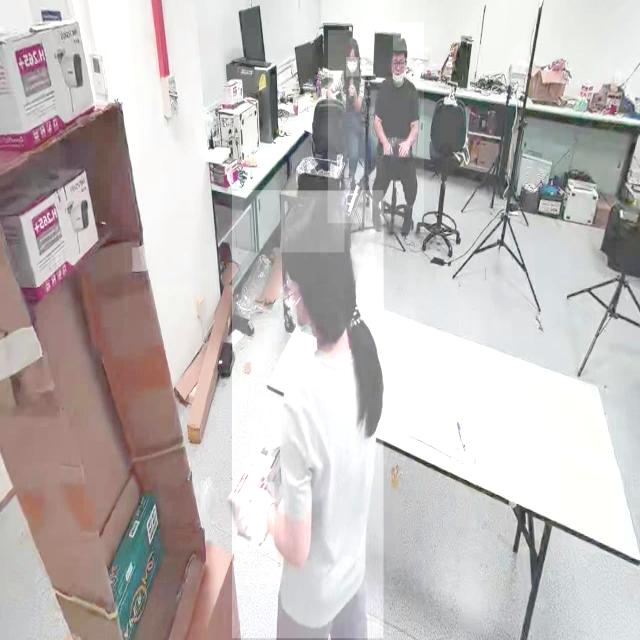face_mask: (345, 57, 359, 77)
face_nomask: (392, 54, 406, 78)
hand_glove: (235, 482, 275, 550)
hand_noglove: (398, 139, 410, 158), (382, 138, 393, 156), (348, 80, 358, 97)
head_nohelmet: (280, 191, 344, 253), (392, 34, 408, 51), (346, 36, 360, 52)
person: (232, 190, 384, 639), (370, 22, 424, 233), (328, 30, 366, 223)
